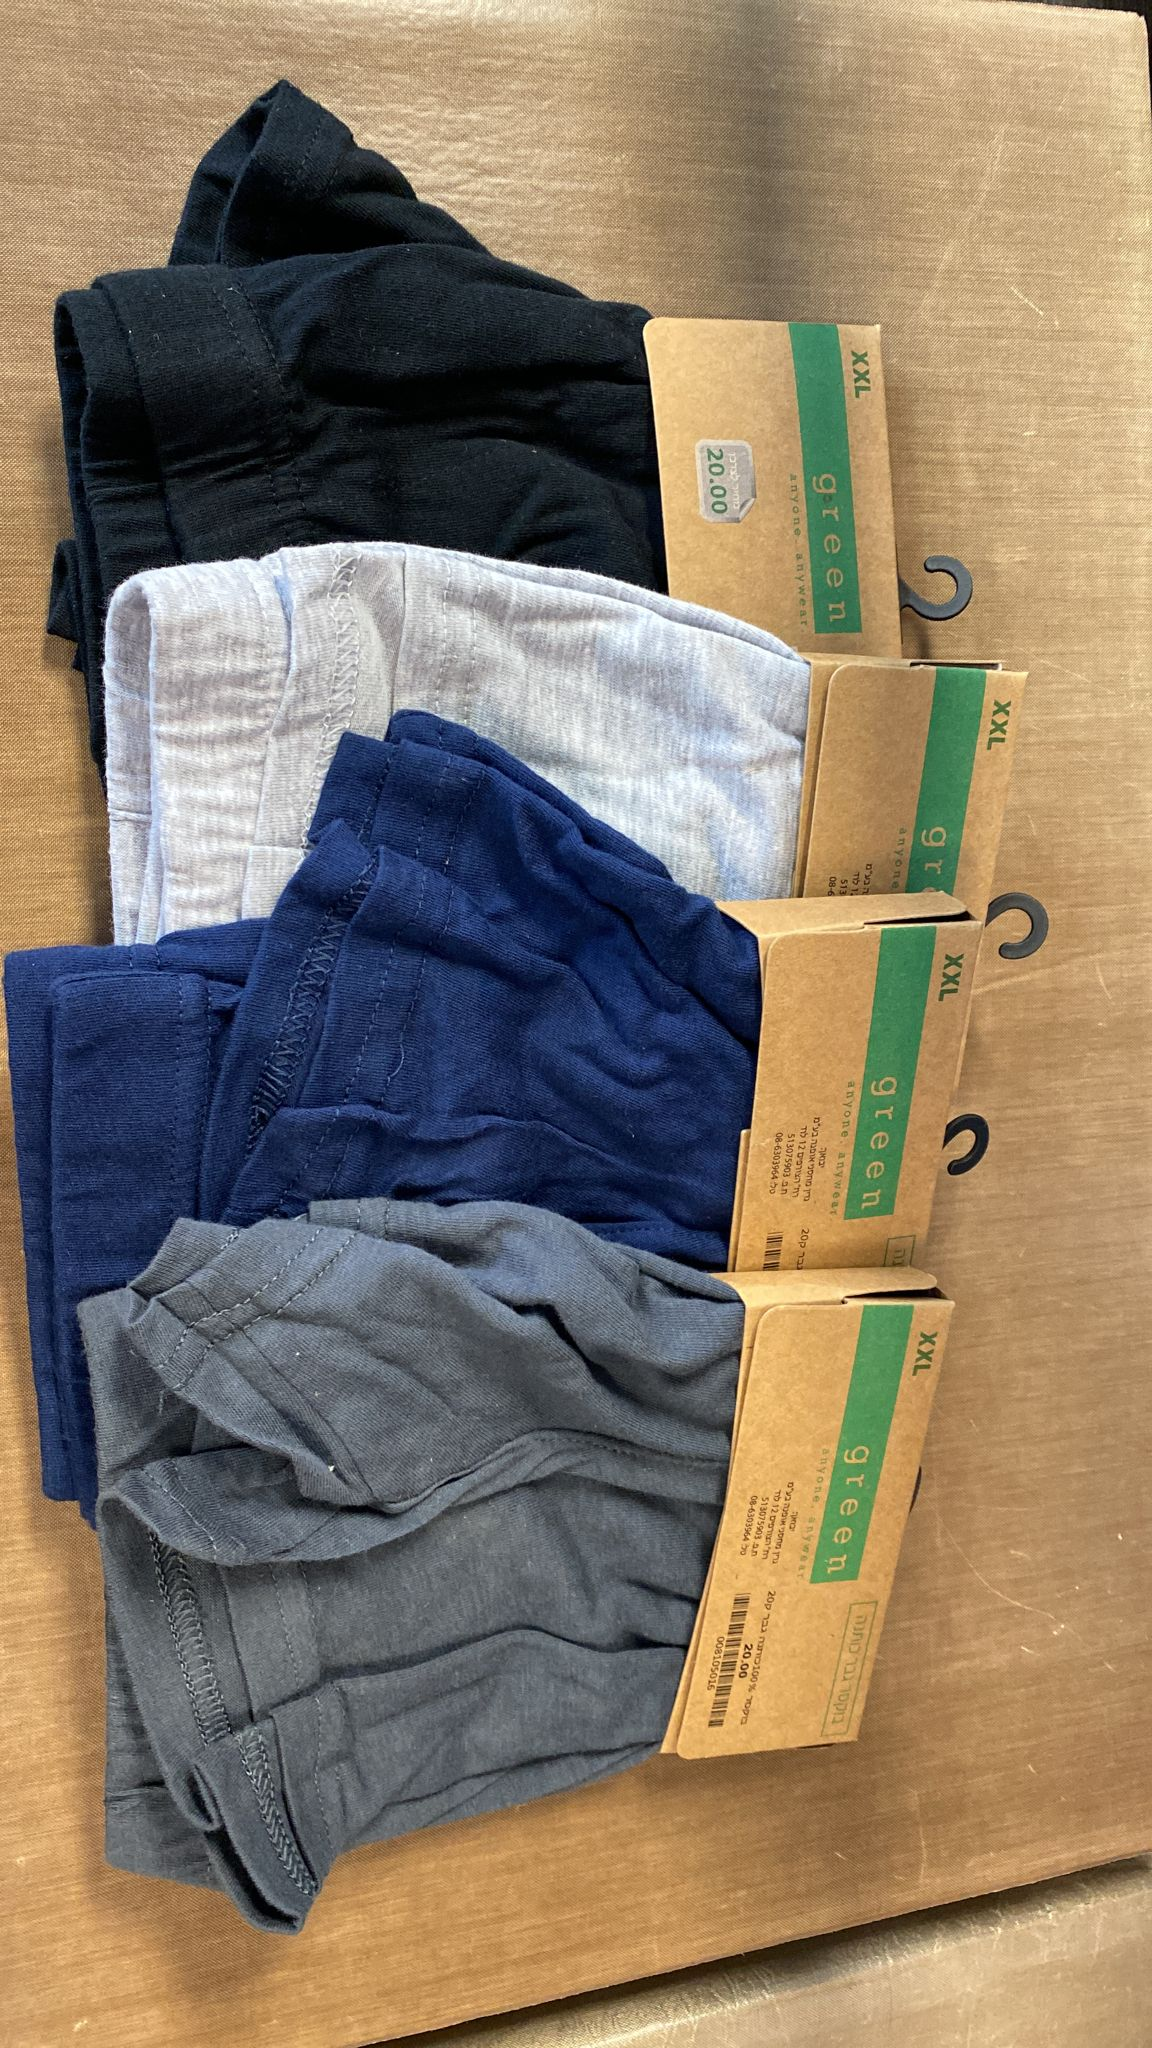other: (37, 127, 1056, 1938)
